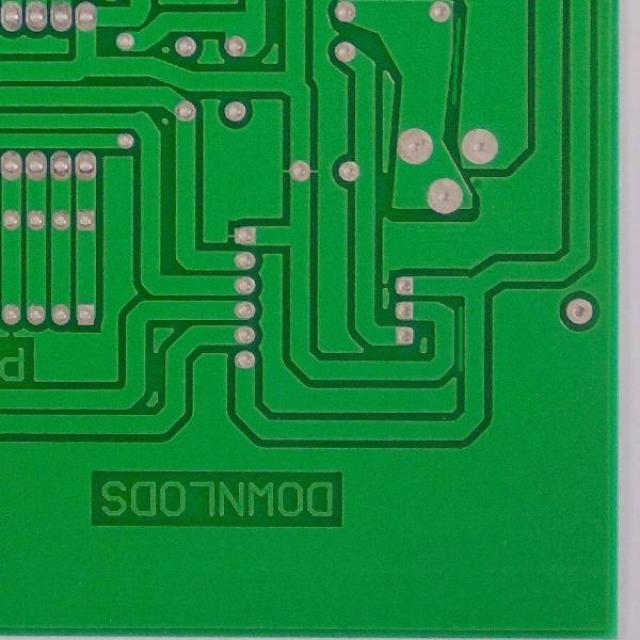Spurious_Cooper: (449, 13, 466, 108), (454, 302, 466, 375)
